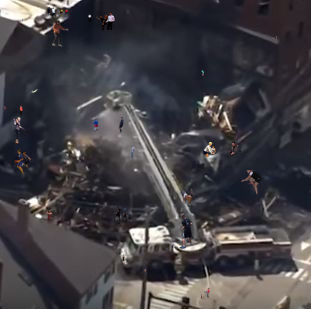Human: (241, 170, 262, 195), (50, 20, 69, 47), (11, 117, 30, 144), (24, 209, 52, 227), (179, 213, 193, 249), (93, 117, 124, 133), (14, 149, 32, 176), (88, 12, 115, 30), (226, 141, 242, 168), (113, 206, 133, 224), (180, 189, 194, 206), (47, 7, 68, 17), (4, 105, 23, 116), (203, 142, 216, 157), (166, 244, 178, 252), (130, 146, 137, 159), (204, 288, 210, 298), (29, 89, 38, 95), (196, 70, 204, 76), (160, 2, 170, 6), (79, 157, 85, 162), (122, 255, 125, 264), (272, 36, 277, 40), (124, 230, 127, 234), (144, 269, 146, 272), (201, 294, 202, 299), (204, 93, 205, 97), (300, 296, 301, 300), (22, 18, 23, 21)
